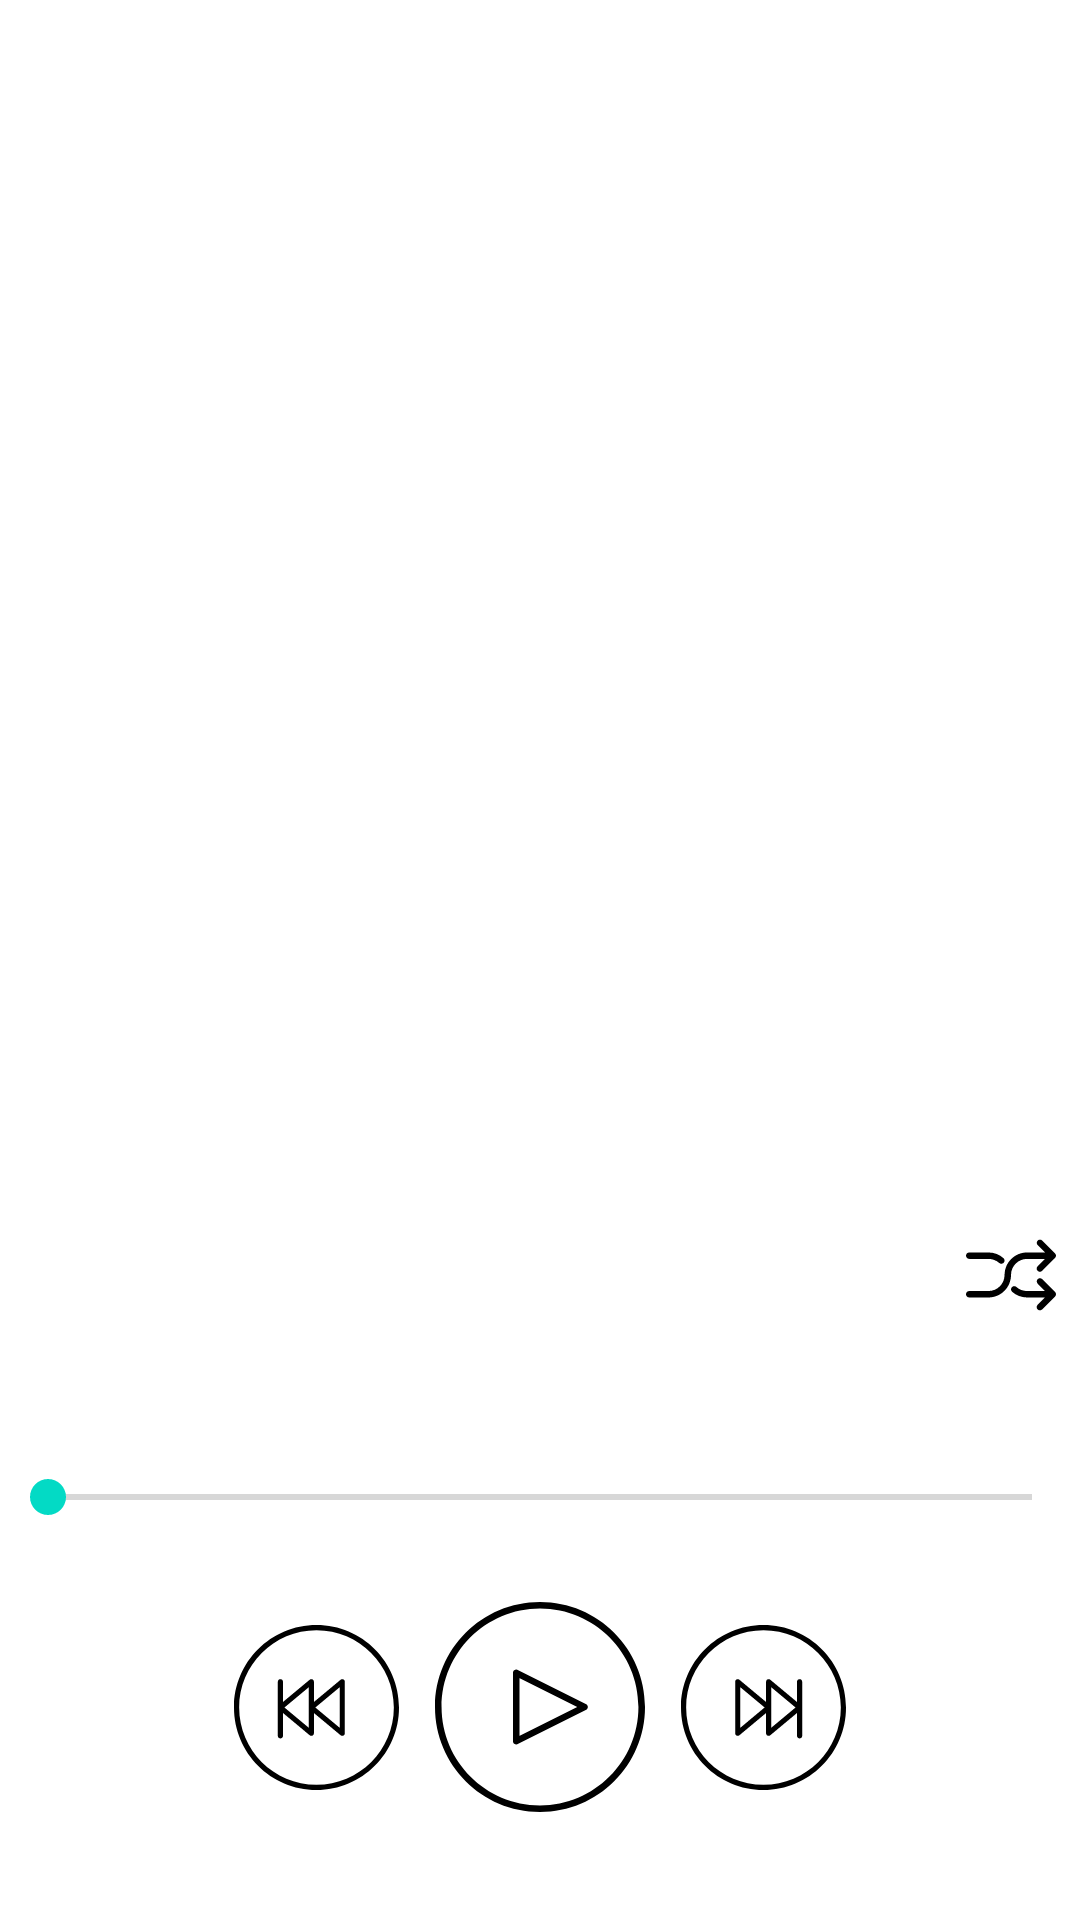

Screen size 1080w x 1920h. Icon name, then its center in pixels as (x=x, y=y):
Play or pause current track: (x=540, y=1707)
Shuffle the current play queue: (x=1011, y=1275)
Skip ahead a track: (x=763, y=1707)
Skip back a track: (x=316, y=1707)
